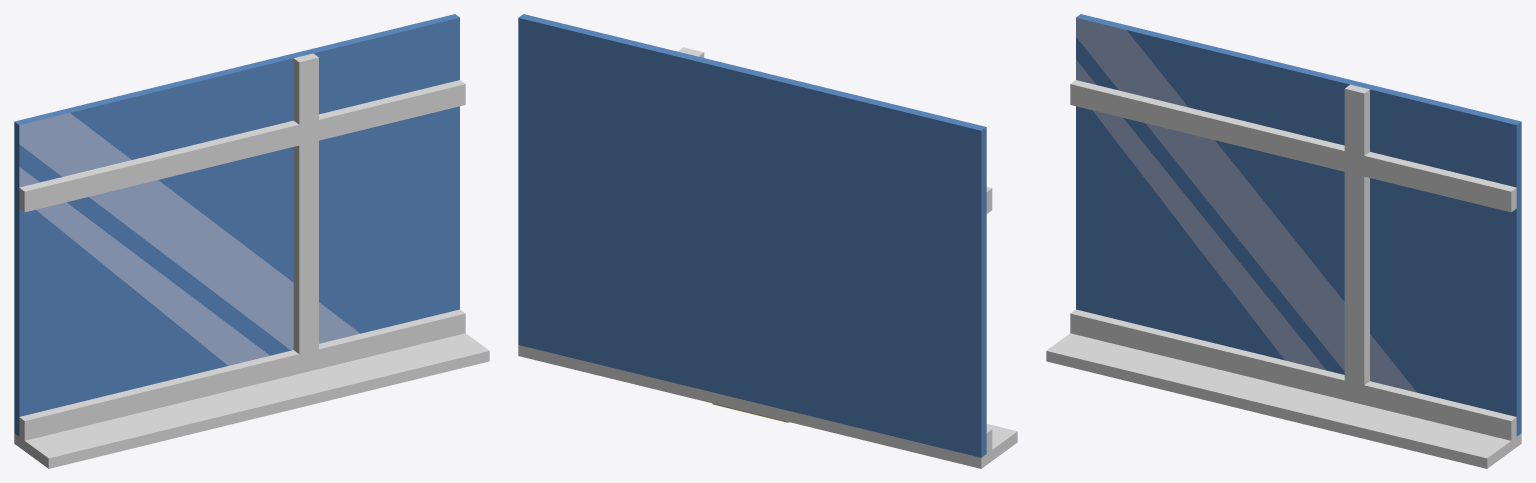
Rendered from Window.fbx.
3 renders of one model, left to right at view 1: azimuth 30°, elevation 25°; view 2: azimuth 150°, elevation 25°; view 3: azimuth 330°, elevation 25°, orthographic. The views are drawn at different scales.
Visible parts, largest first — view 1: Window, Window.001, Window.002; view 2: Window, Window.002; view 3: Window, Window.001, Window.002.
Part boxes in pixels (x1=…): Window: x1=14, y1=14, x2=459, y2=436; Window.001: x1=19, y1=53, x2=465, y2=440; Window.002: x1=14, y1=333, x2=489, y2=468; Window: x1=518, y1=14, x2=986, y2=457; Window.002: x1=518, y1=345, x2=1017, y2=468; Window: x1=1076, y1=14, x2=1521, y2=436; Window.001: x1=1070, y1=80, x2=1516, y2=440; Window.002: x1=1046, y1=333, x2=1521, y2=468.
Bounding box in the file's own units: 520 × 365 × 70.6.
